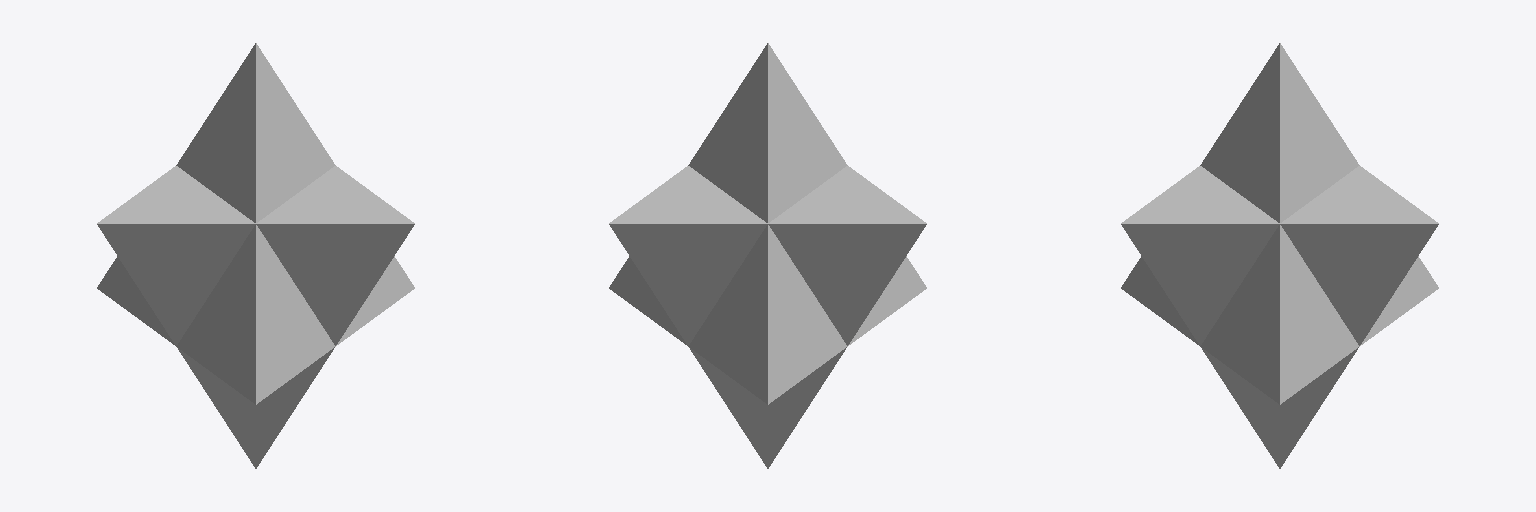
The model's file is Escenario 2 - Objeto 1 (Merkaba).obj.
3 renders of one model, left to right at view 1: azimuth 30°, elevation 25°; view 2: azimuth 150°, elevation 25°; view 3: azimuth 270°, elevation 25°, orthographic.
Visible parts, largest first — view 1: Mesh1 Group1 Model; view 2: Mesh1 Group1 Model; view 3: Mesh1 Group1 Model.
Boxes of the visible parts, x1,y1,x2,y2 form: Mesh1 Group1 Model: [97, 43, 414, 468]; Mesh1 Group1 Model: [609, 43, 926, 468]; Mesh1 Group1 Model: [1121, 43, 1438, 468].
Size of the model in its own units: 1.87 by 2.39 by 1.62.